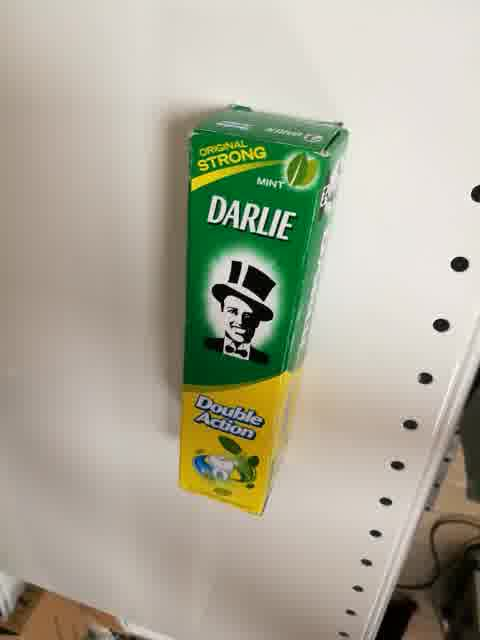toothpaste: (176, 103, 348, 520)
